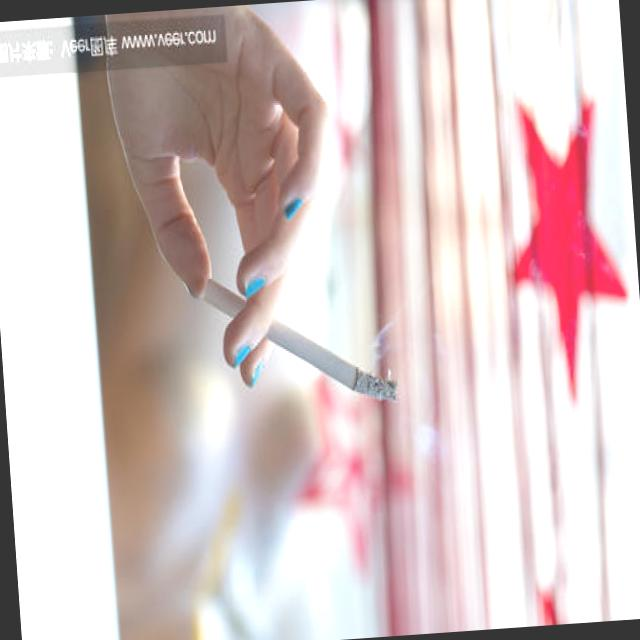cigarette: (270, 309, 400, 416)
